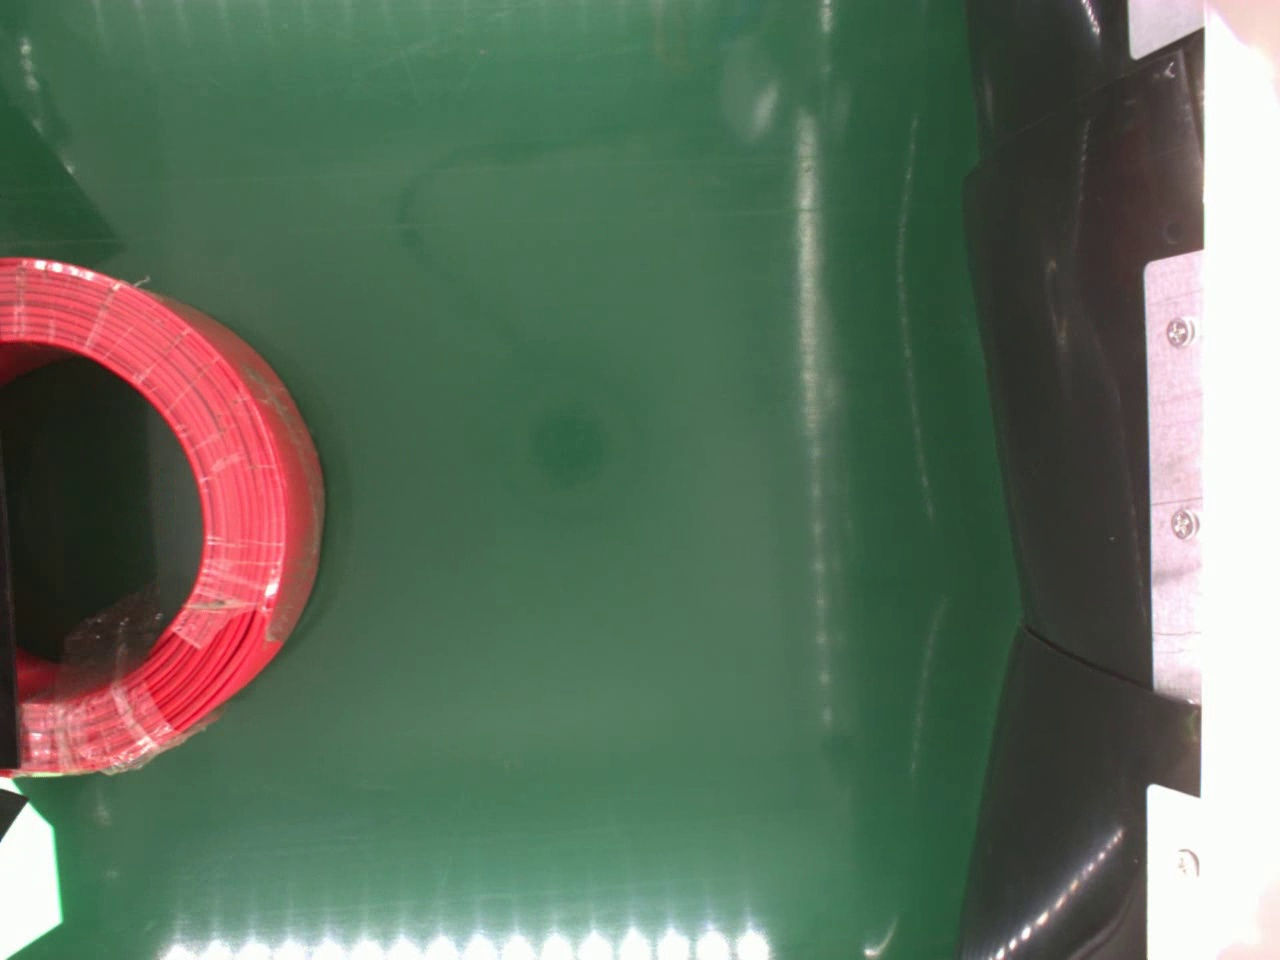red: (0, 252, 324, 781)
